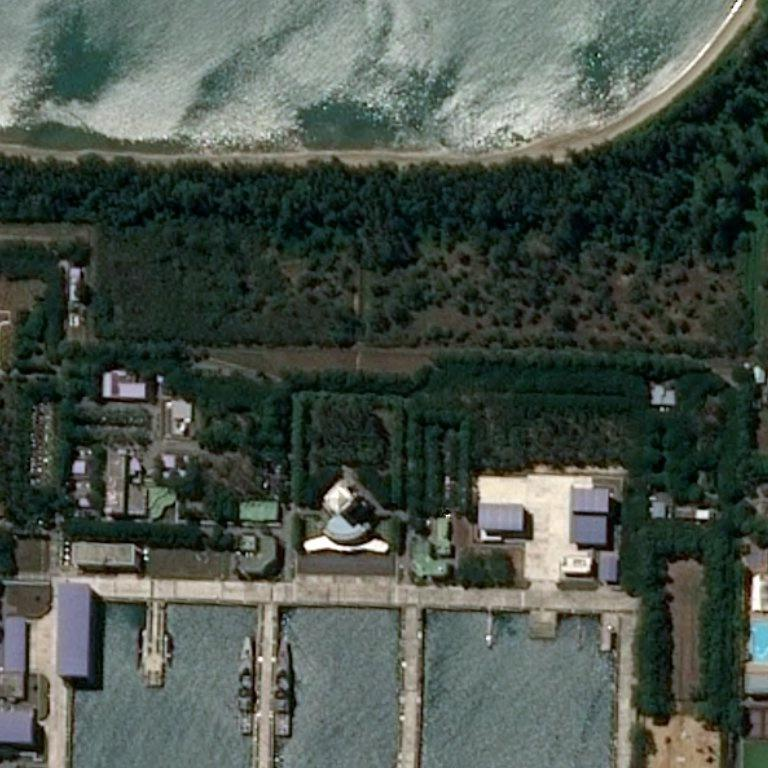ship: (272, 678, 293, 699), (230, 675, 246, 698), (232, 731, 237, 735), (43, 733, 47, 737), (282, 640, 285, 645), (284, 733, 289, 736), (8, 728, 11, 732), (245, 638, 248, 640)
